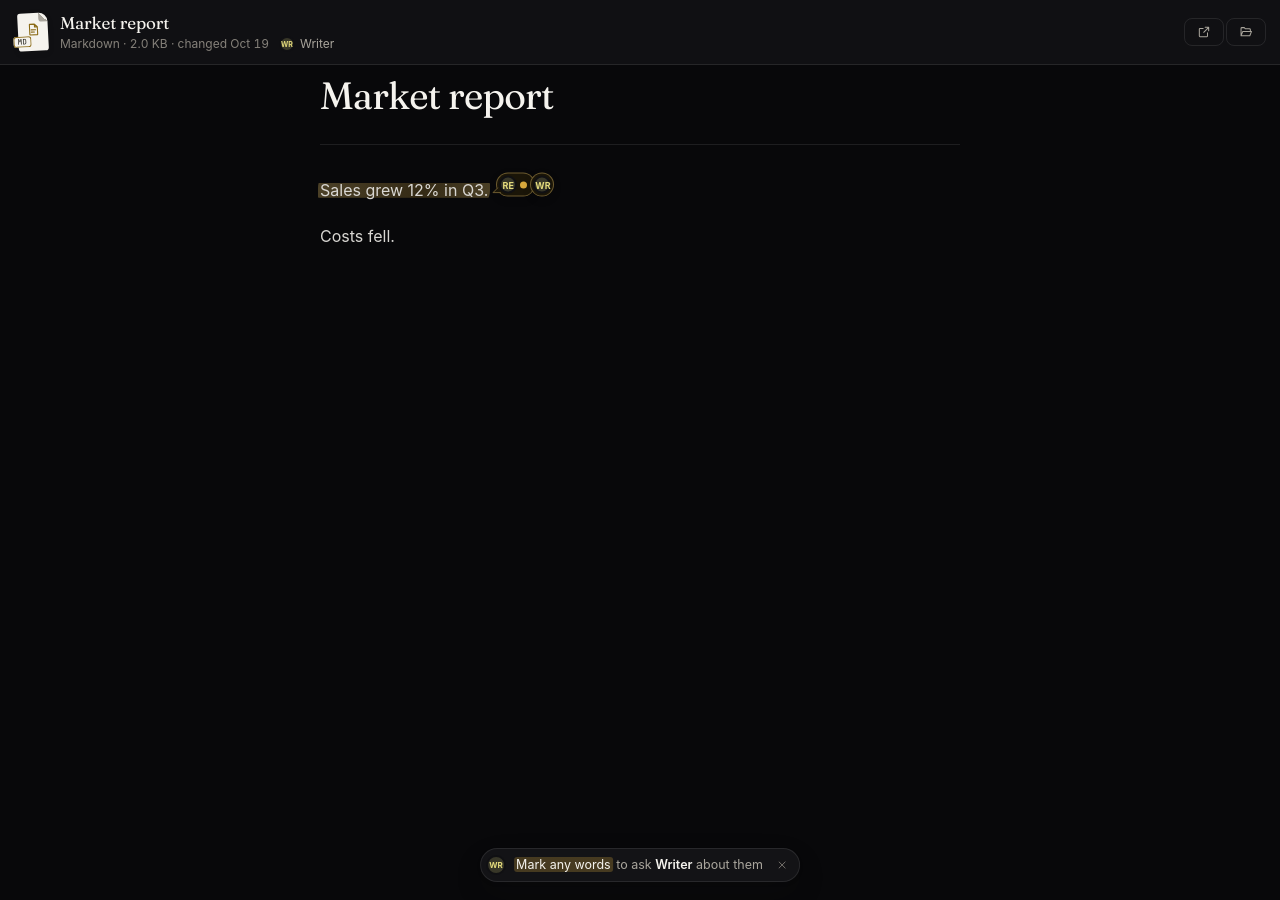
Test: reading a file an agent made › opens the answer waiting for you from the marked words, though a newer ask is about them too
Expected: the button with aria-label "Writer's answer about “Sales grew 12% in Q3.”" is shown, [531,174,553,196]
Click the text with class "rd-mark" at (404, 190), box [318,180,490,200]
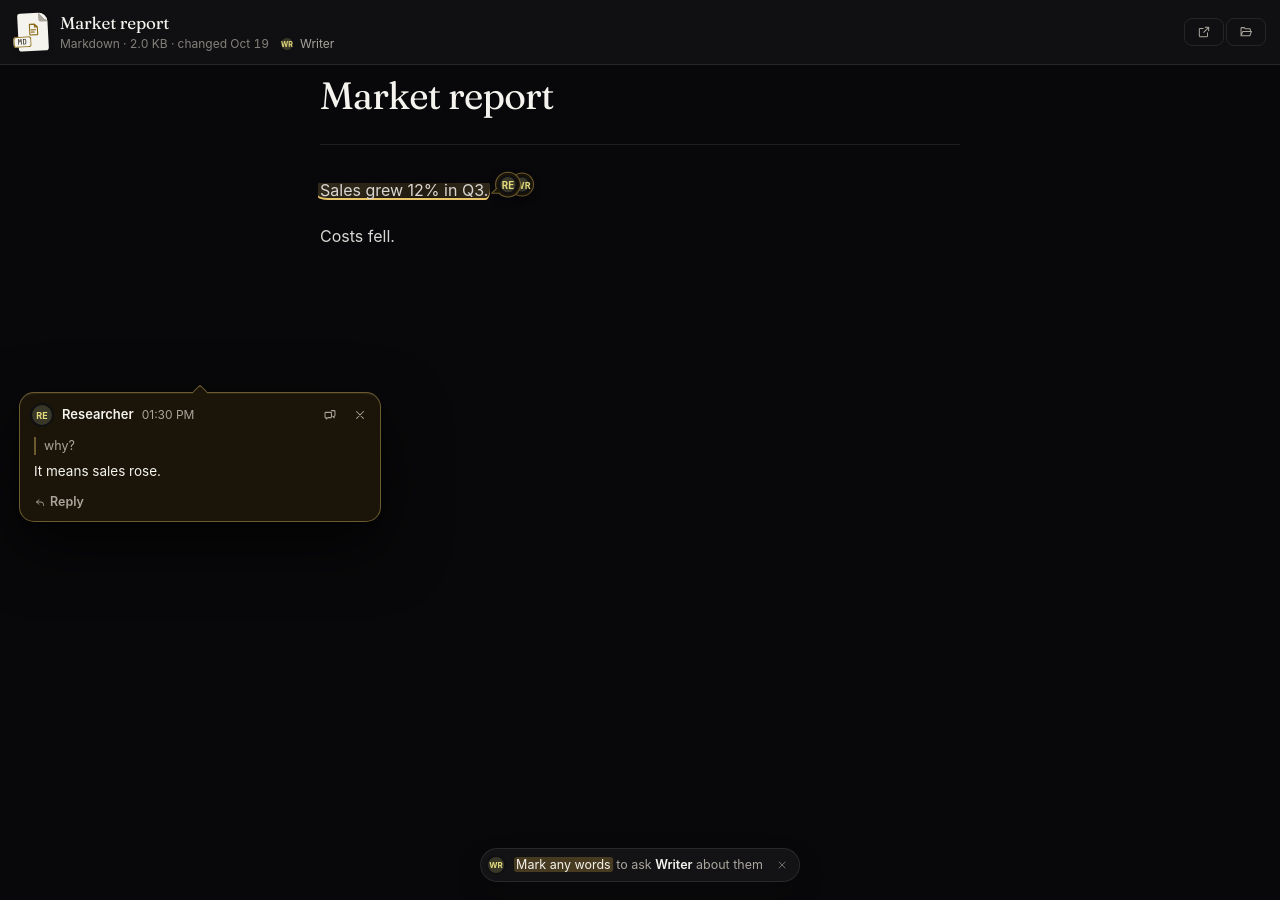
Now the element named "Researcher's answer to your question" shows "It means sales rose.", box [34,463,161,479]
